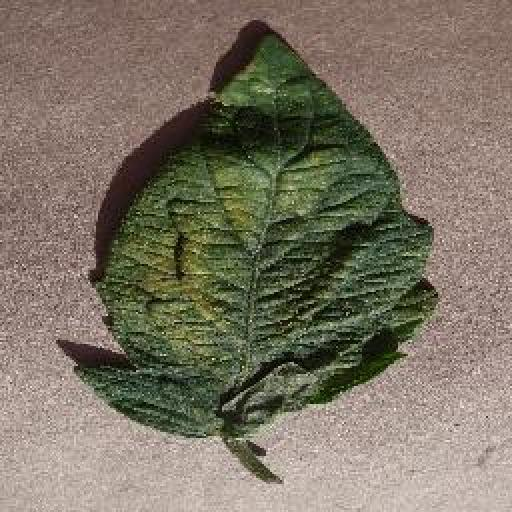Spider Mites: (73, 25, 440, 439)
